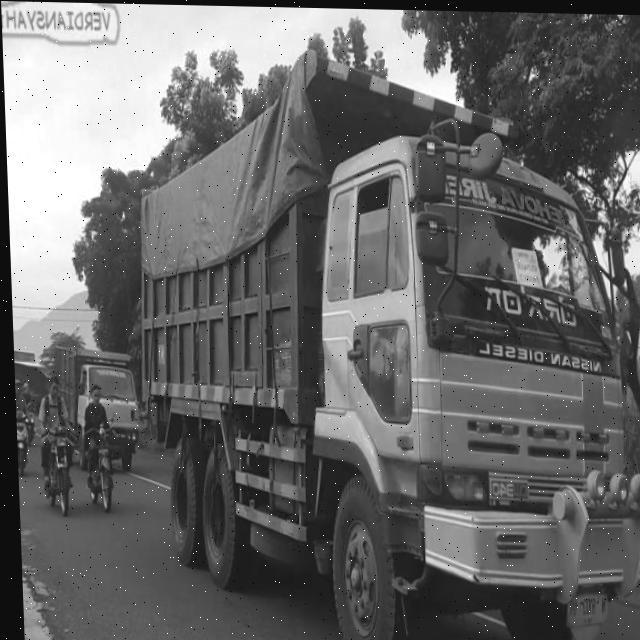truck: (132, 45, 640, 640), (36, 323, 142, 482)
